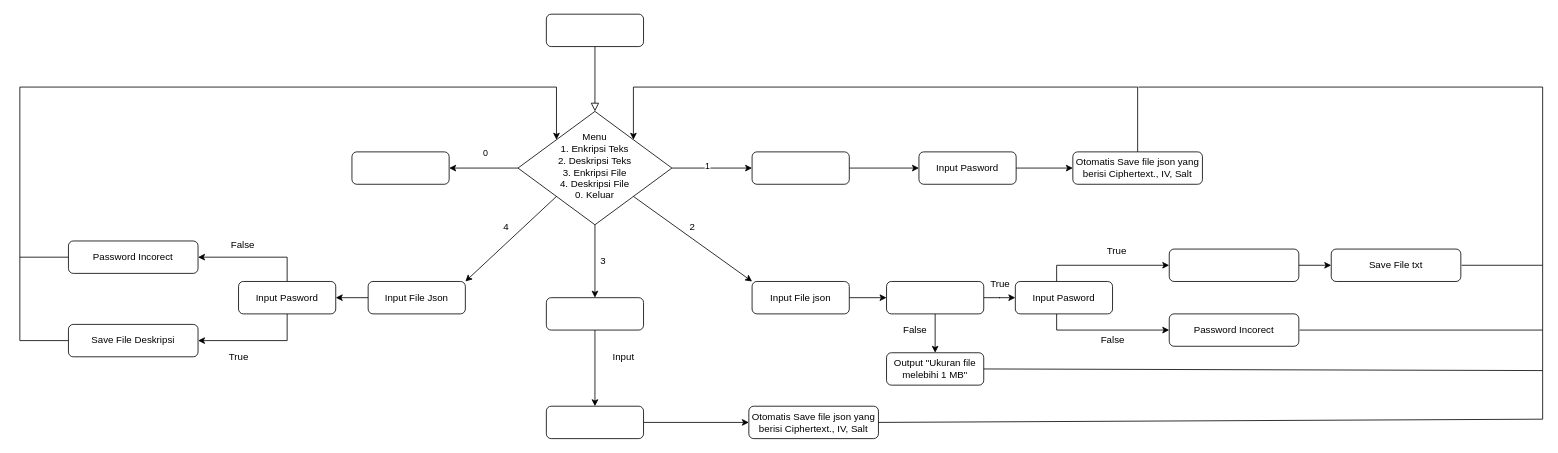
The diagram is 1558 pixels wide and 453 high, and some of its shapes have lost their labels. Each missing label, with the centre of its shape:
"cek size file < 1mb" goes at point 935,297.
"end" goes at point 400,167.
"Input File" goes at point 595,313.
"Input Password" goes at point 595,422.
"Input Teks" goes at point 800,167.
"Output Text deskripsi" goes at point 1233,264.
"Start" goes at point 595,30.
